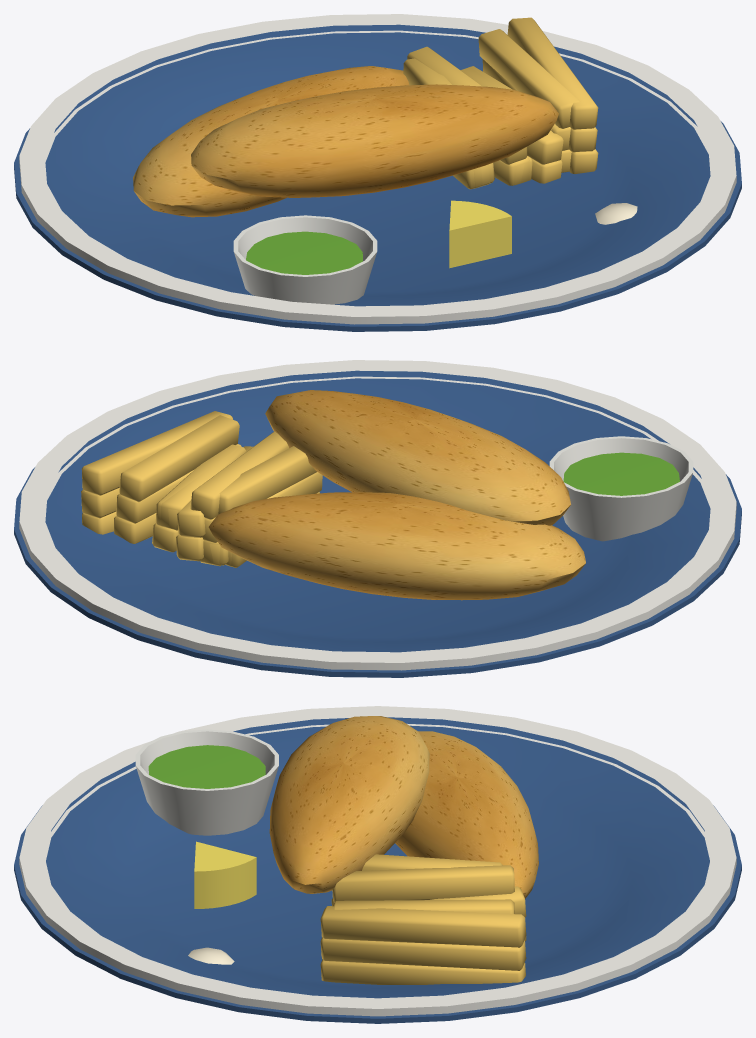
File: meal_fish_and_chips.glb
3 views of the same model, one above another, from view 1: azimuth 30°, elevation 25°; view 2: azimuth 150°, elevation 25°; view 3: azimuth 270°, elevation 25° (orthographic).
Parts seen in each view (by area): view 1: meal_fish_and_chips; view 2: meal_fish_and_chips; view 3: meal_fish_and_chips.
Part boxes in pixels (x1,y1,x2,y2): meal_fish_and_chips: (14,14,741,331); meal_fish_and_chips: (14,360,741,677); meal_fish_and_chips: (14,706,741,1023).
Size of the model in its own units: 0.32 by 0.064 by 0.32.
Materials: 8 (1 with a texture image).
